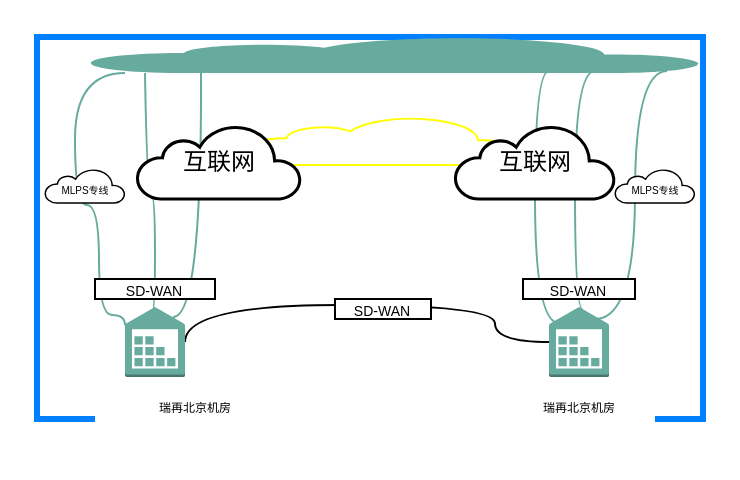
Image size: 740x480. Some labels were removed from this diagram. The shapes that lost their labels are listed below. From the top down, each one's centre as x and y in pixels, then its label:
point 395,54: 瑞再集团内网
point 382,140: 阿里云
point 374,421: 图1 IT 基础设施架构
